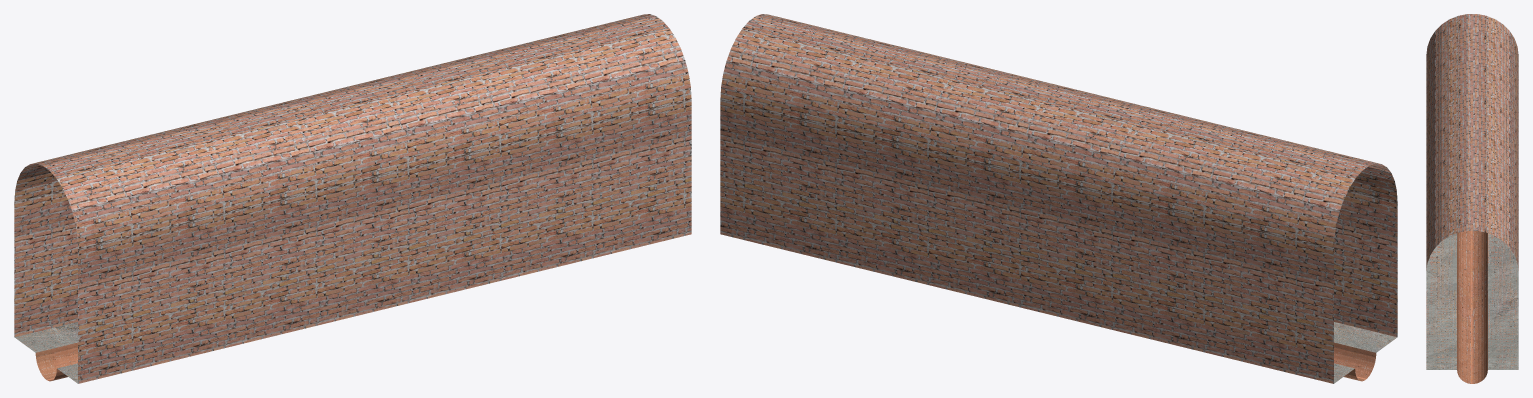
Rendered from T130_gut30_straight_5m.dae.
3 renders of one model, left to right at view 1: azimuth 30°, elevation 25°; view 2: azimuth 150°, elevation 25°; view 3: azimuth 270°, elevation 25°, orthographic. The views are drawn at different scales.
Visible parts, largest first — view 1: SketchUp (×3); view 2: SketchUp (×3); view 3: SketchUp (×4).
Part boxes in pixels (x1,y1,x2,y2): SketchUp (×3): [14, 14, 691, 383]; SketchUp (×3): [720, 14, 1397, 383]; SketchUp (×4): [1426, 14, 1518, 383].
Size of the model in its own units: 197 by 35.43 by 64.82.
